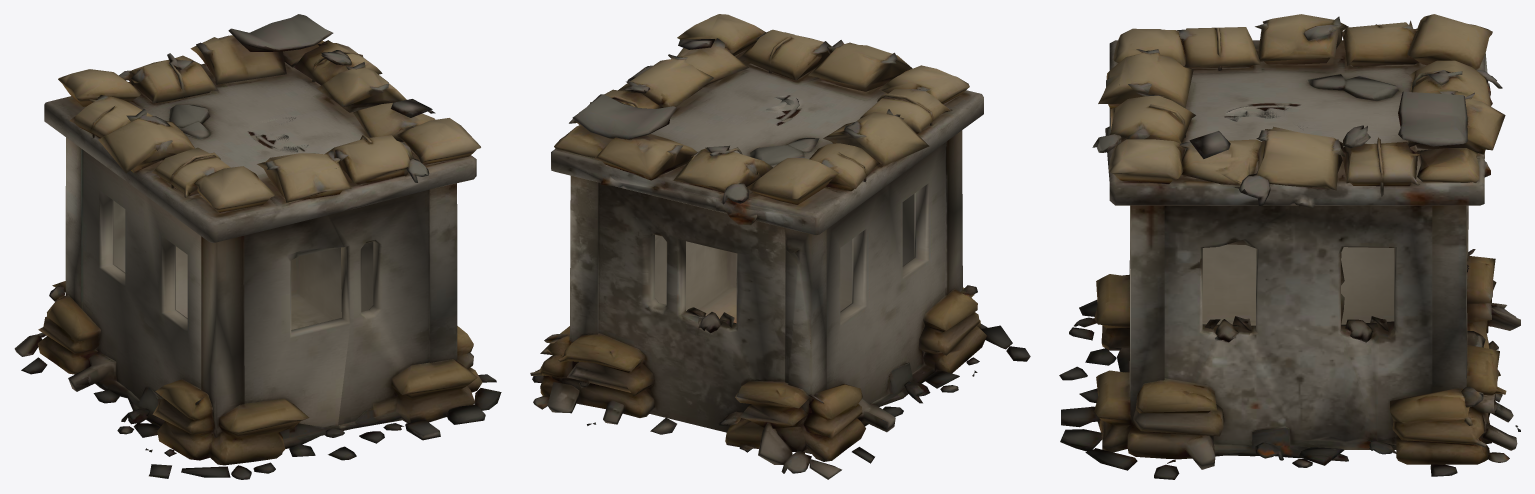
Rendered from bunker.glb.
The picture shows the model from 3 angles, left to right: view 1: azimuth 30°, elevation 25°; view 2: azimuth 150°, elevation 25°; view 3: azimuth 270°, elevation 25°; orthographic projection. The views are drawn at different scales.
Visible parts, largest first — view 1: tripo_node_80933f46-989f-4e74-8843-e55760953606; view 2: tripo_node_80933f46-989f-4e74-8843-e55760953606; view 3: tripo_node_80933f46-989f-4e74-8843-e55760953606.
Boxes of the visible parts, x1=… form: tripo_node_80933f46-989f-4e74-8843-e55760953606: x1=14, y1=14, x2=501, y2=479; tripo_node_80933f46-989f-4e74-8843-e55760953606: x1=530, y1=14, x2=1030, y2=479; tripo_node_80933f46-989f-4e74-8843-e55760953606: x1=1059, y1=14, x2=1520, y2=479.
Size of the model in its own units: 0.998 by 0.7754 by 0.998.
1 material, 1 textured.
